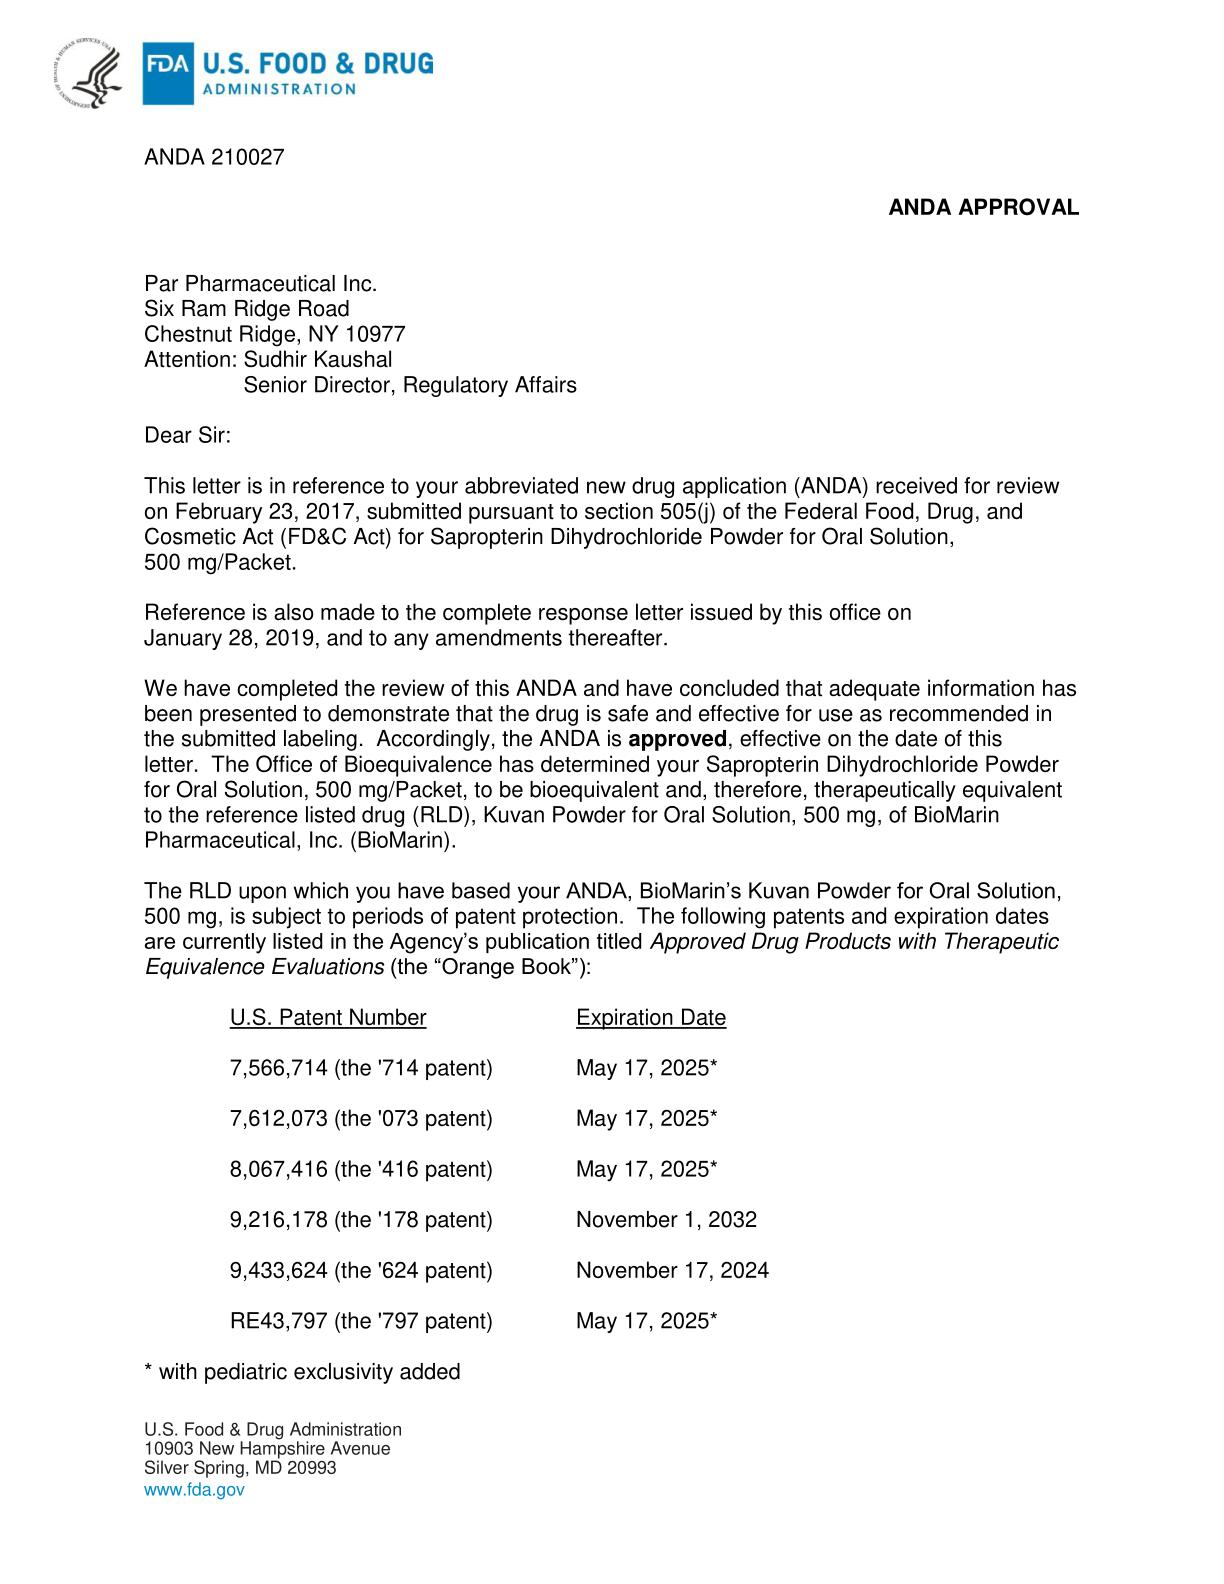nolines: (228, 1002, 774, 1336)
